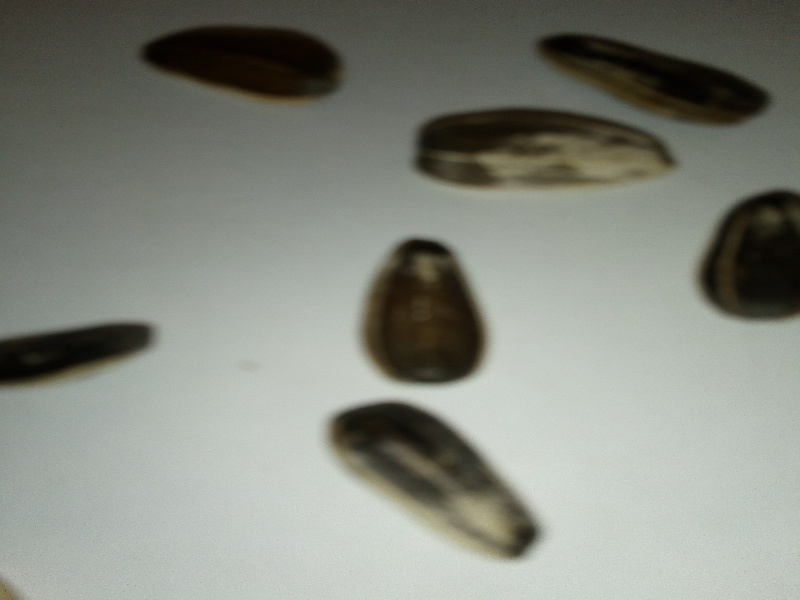girasol: (303, 393, 551, 572), (355, 233, 499, 391)
